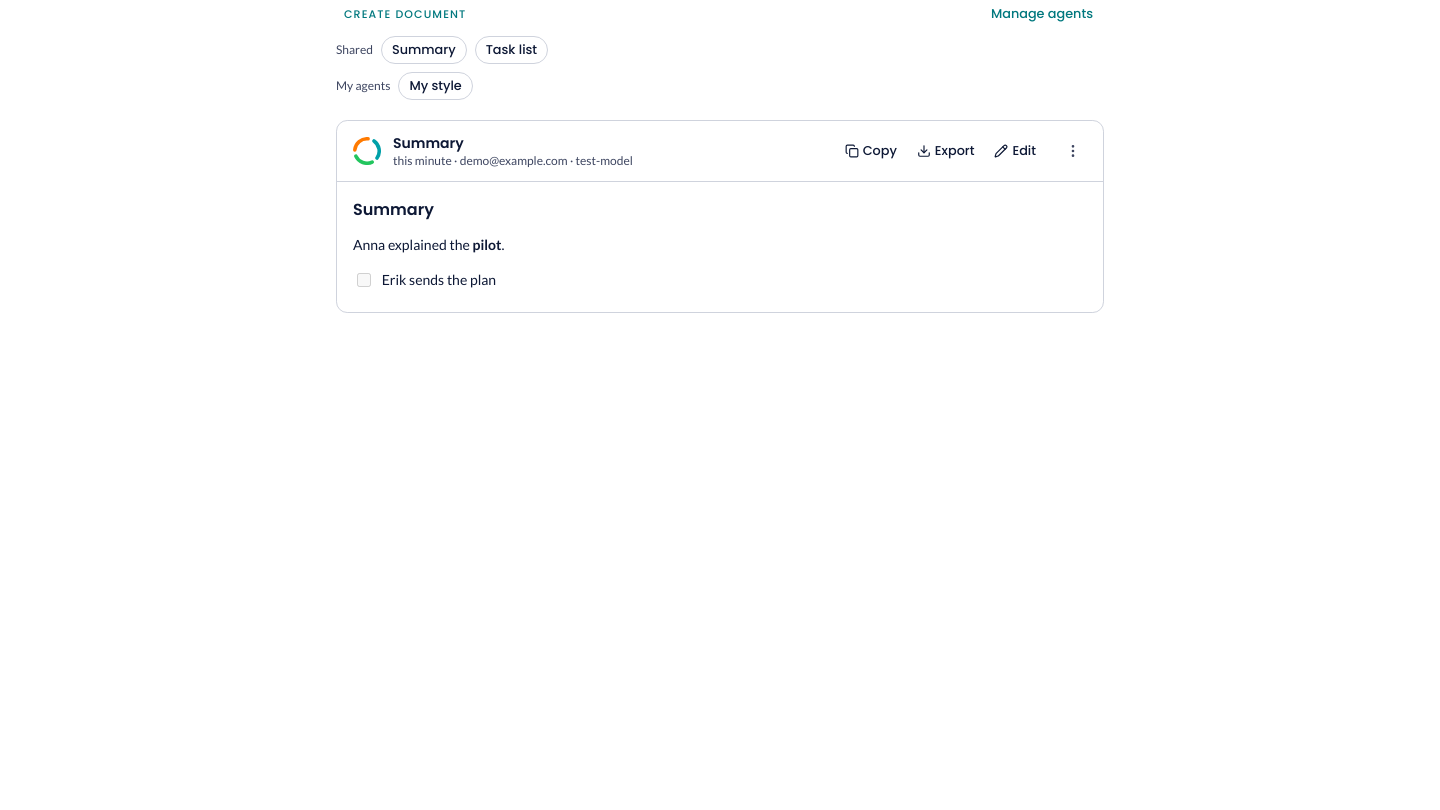
Test: edits a note with the Markdown editor and saves it
The width and height of the screenshot is (1440, 810).
Click the button "Edit" at (1017, 151), box [988,137,1047,165]
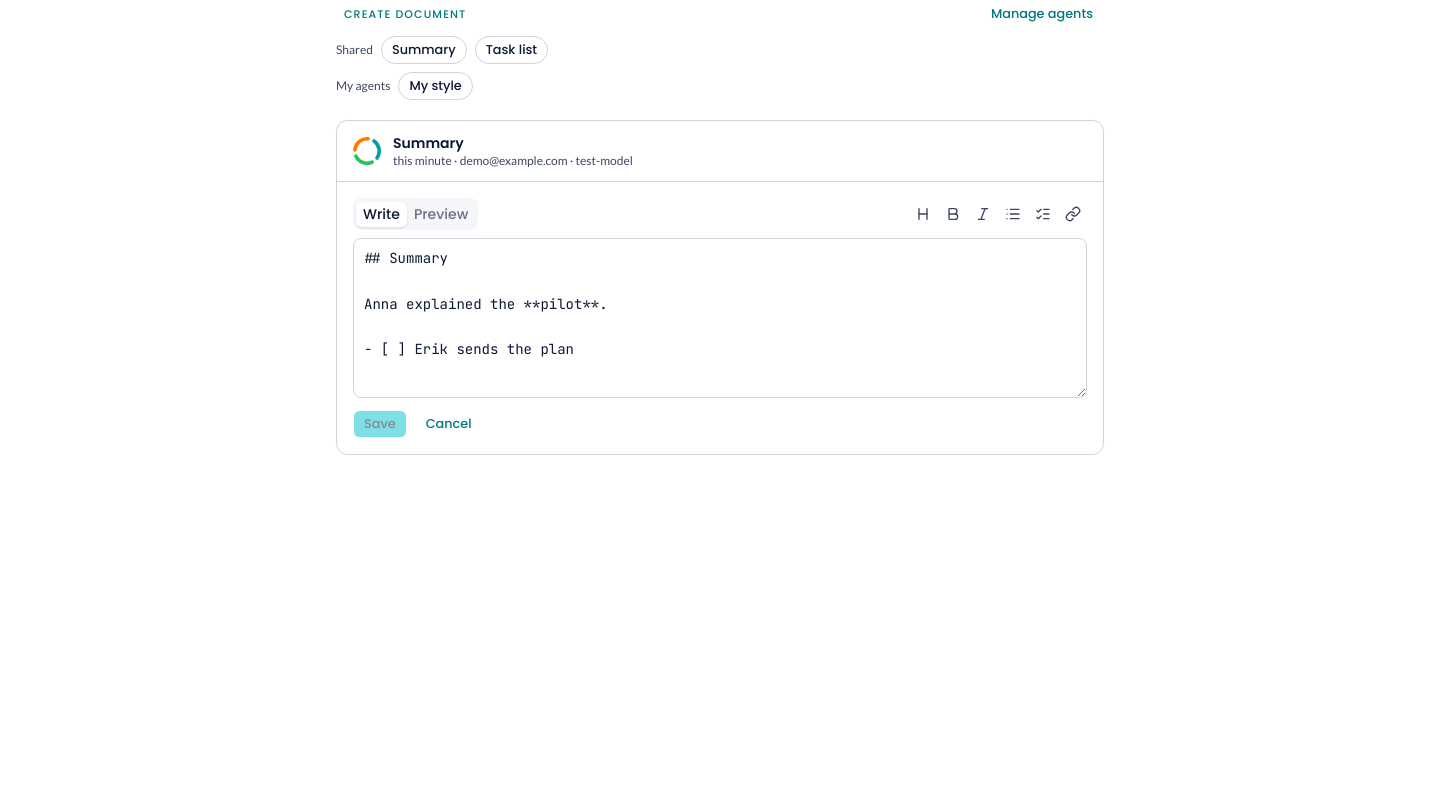
Expected: the button "Save" is disabled, [353,410,407,438]
Replace the text in the text box named "Edit document: Summary" with "## Changed" at (720, 318), box [353,238,1087,398]
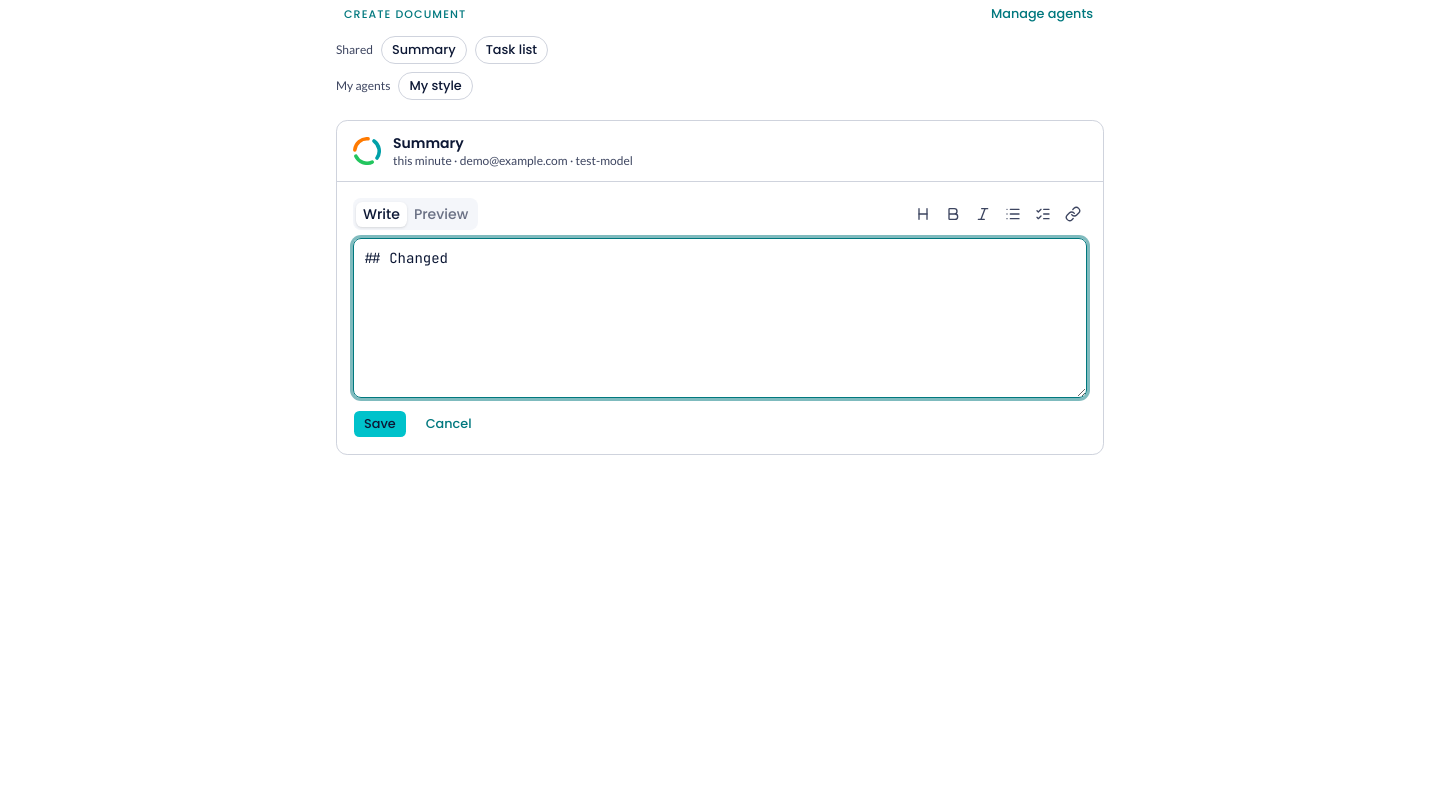
// Preview shows the formatted result before saving.
Click the tab "Preview" at (441, 214), box [407,202,475,226]
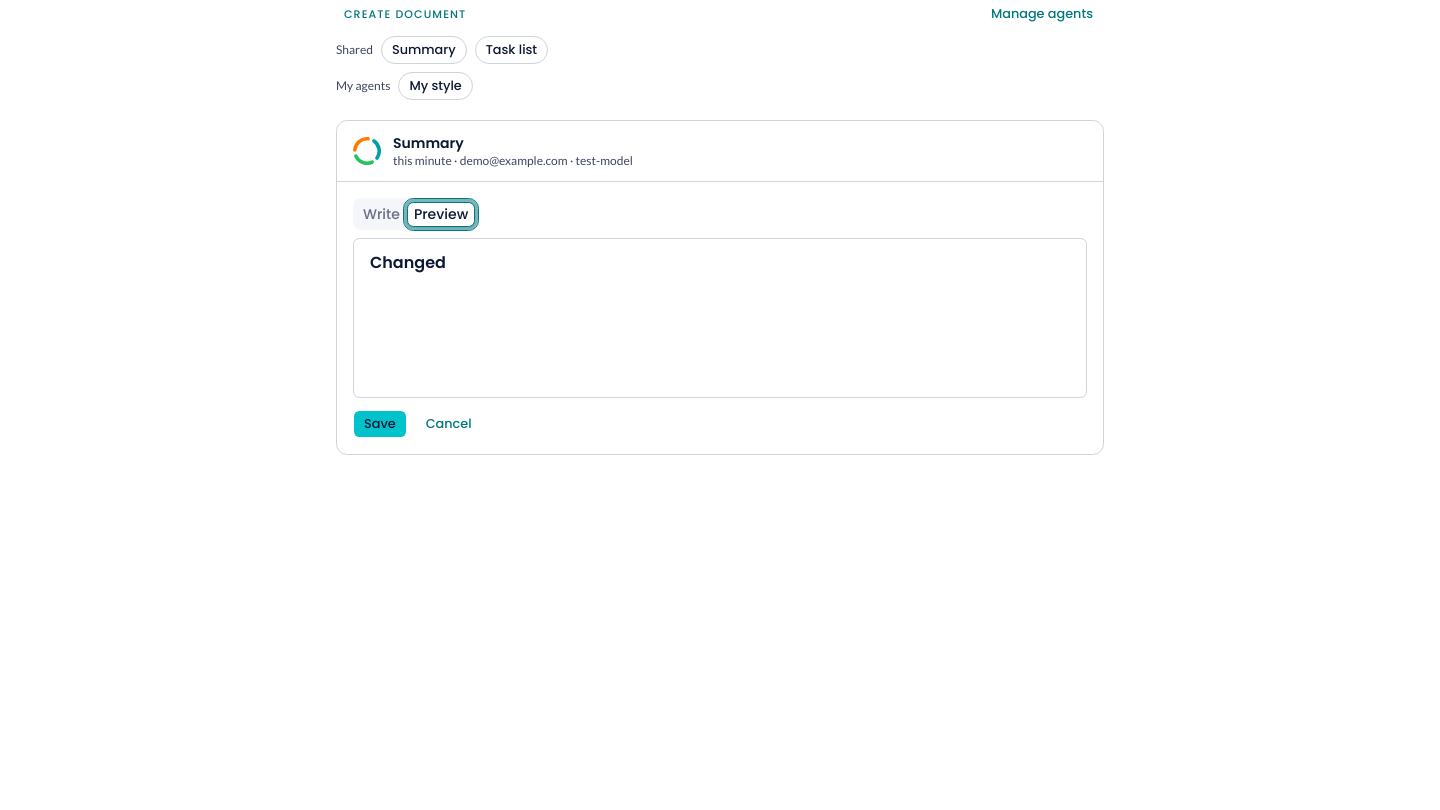
Expected: the heading "Changed" is shown, [370,251,446,274]
Click the button "Save" at (380, 424), box [353,410,407,438]
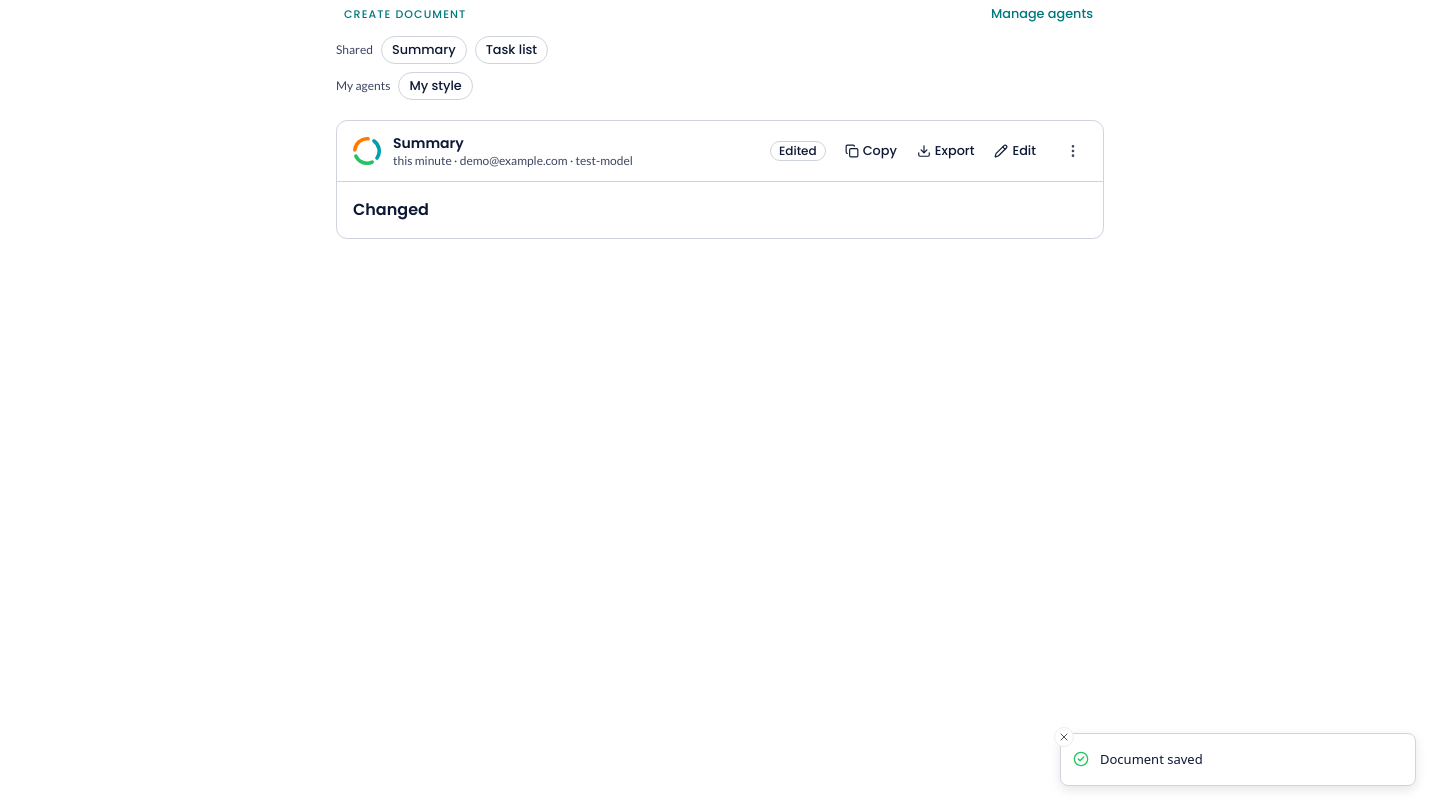
Expected: the icon "Edited" is shown, [770,141,826,161]
